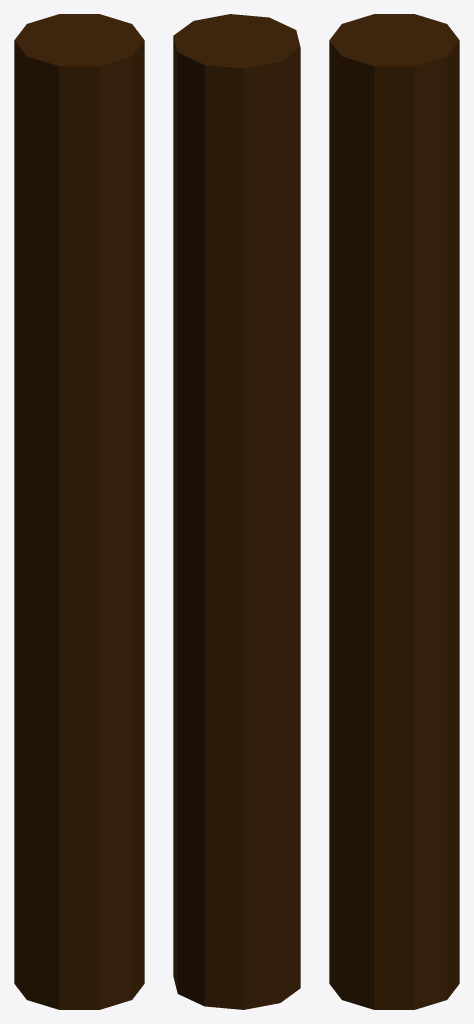
The model's file is Fence_Post_v003.fbx.
3 views of the same model, side by side, from view 1: azimuth 90°, elevation 25°; view 2: azimuth 150°, elevation 25°; view 3: azimuth 270°, elevation 25° (orthographic).
Visible parts, largest first — view 1: Fence_Post; view 2: Fence_Post; view 3: Fence_Post.
Part boxes in pixels (x1=…): Fence_Post: x1=14, y1=14, x2=144, y2=1009; Fence_Post: x1=173, y1=14, x2=300, y2=1009; Fence_Post: x1=329, y1=14, x2=459, y2=1009.
Bounding box in the file's own units: 47.55 × 400 × 50.
